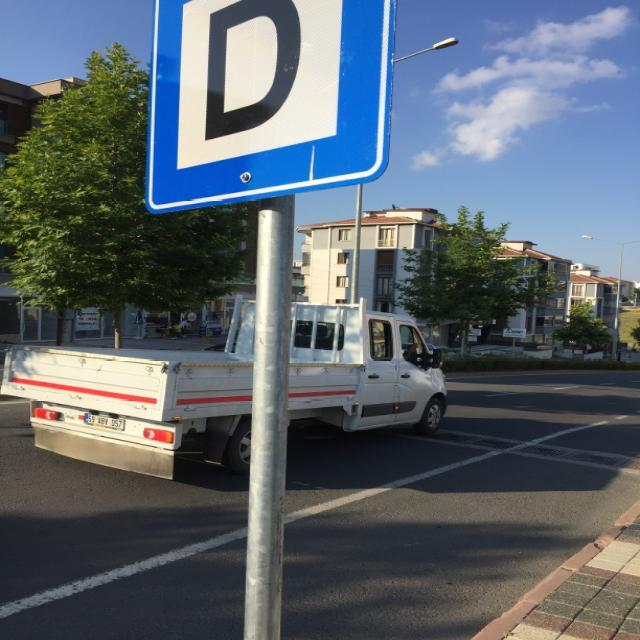durak: (142, 1, 396, 213)
